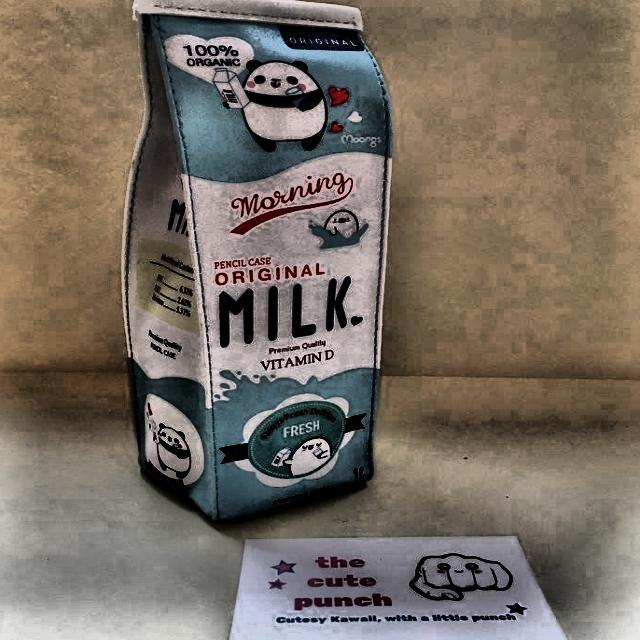cardboard: (120, 0, 393, 521)
